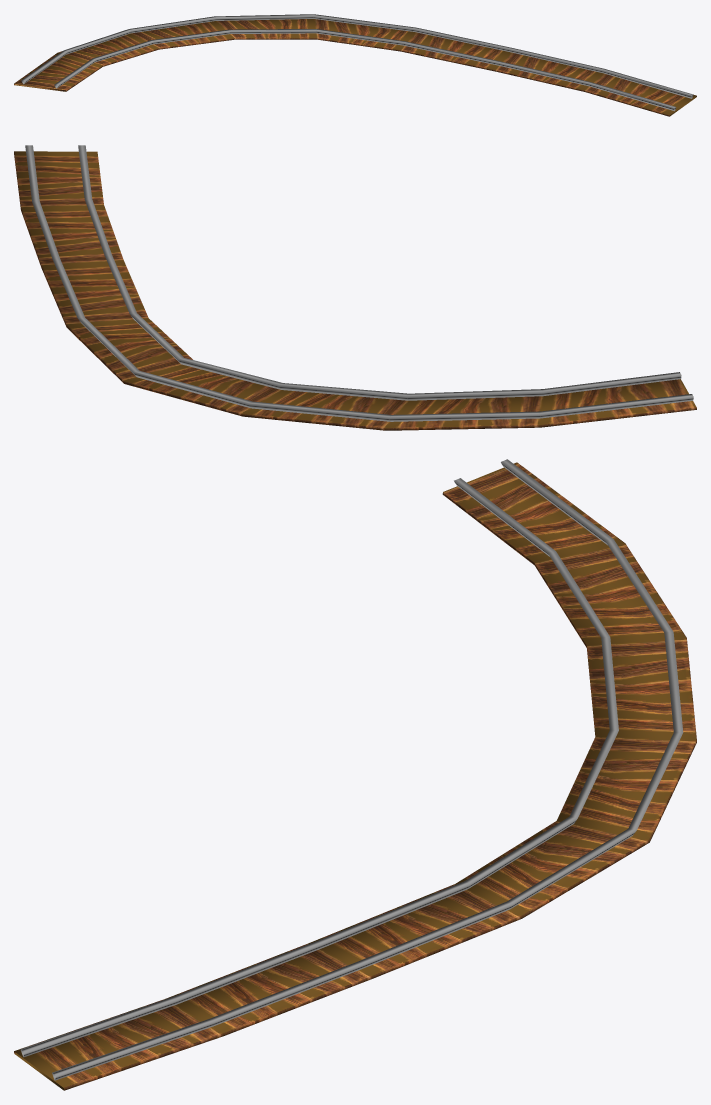
The model's file is SWORDLIGHT20_TRACK11.fbx.
The picture shows the model from 3 angles, top to bottom: view 1: azimuth 30°, elevation 25°; view 2: azimuth 150°, elevation 25°; view 3: azimuth 270°, elevation 25°; orthographic projection. The views are drawn at different scales.
Parts seen in each view (by area): view 1: SWORDLIGHT20_TRACK11; view 2: SWORDLIGHT20_TRACK11; view 3: SWORDLIGHT20_TRACK11.
Boxes of the visible parts, box(x1,y1,x2,y2) form: SWORDLIGHT20_TRACK11: box(14, 14, 696, 116); SWORDLIGHT20_TRACK11: box(14, 145, 696, 430); SWORDLIGHT20_TRACK11: box(14, 459, 696, 1090).
Bounding box in the file's own units: 195335 × 21852 × 109942.
Materials: 2 (2 with a texture image).
